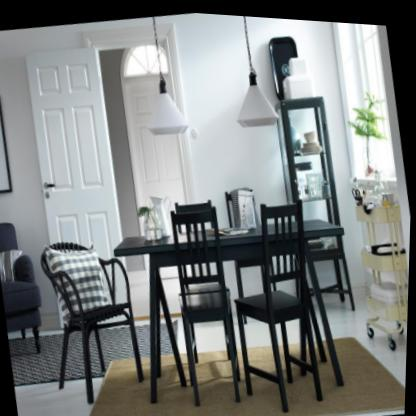Chair: (218, 188, 337, 416), (34, 229, 155, 414), (163, 194, 253, 408)
